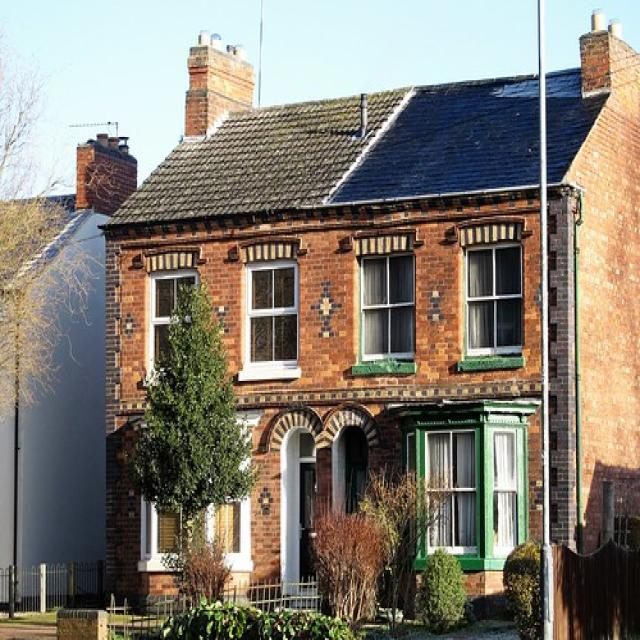building: (99, 21, 638, 616)
